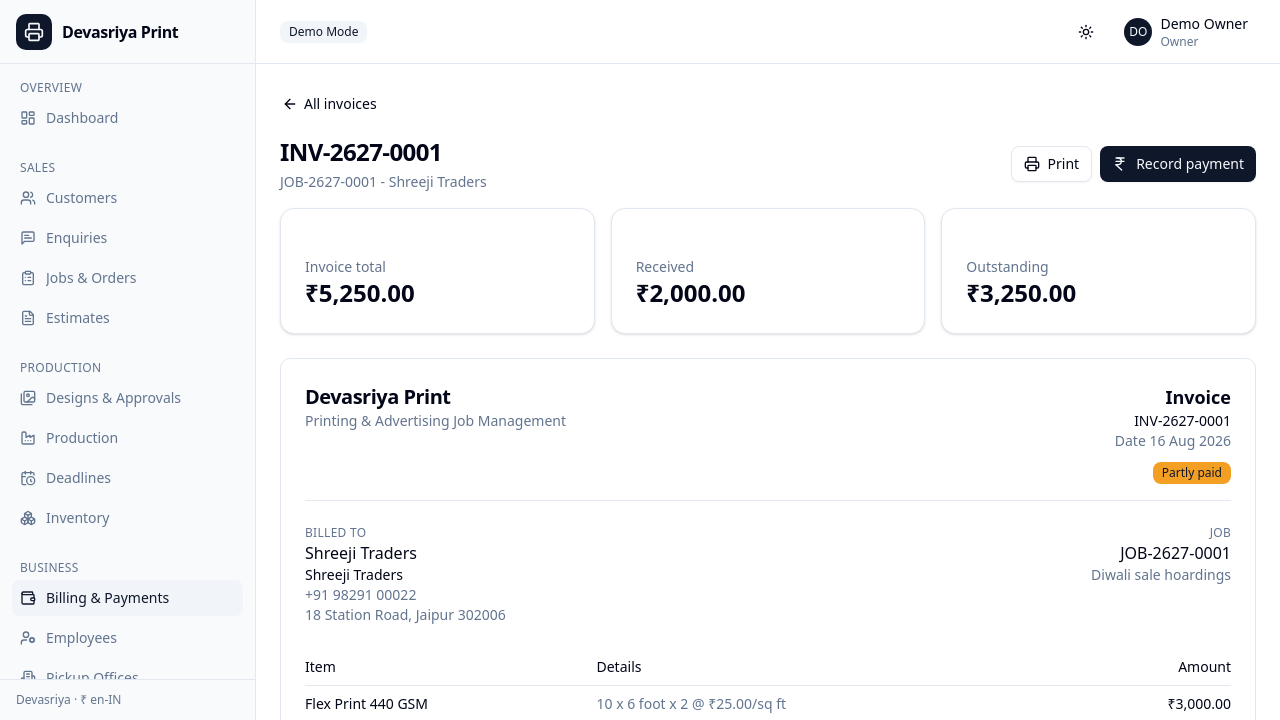
Scenario: demo billing › refuses more than the outstanding balance, and changes nothing
Expected: the heading "INV-2627-0001" is shown, [280, 135, 442, 168]
Click the button "Record payment": (1178, 164) [1100, 146, 1256, 182]
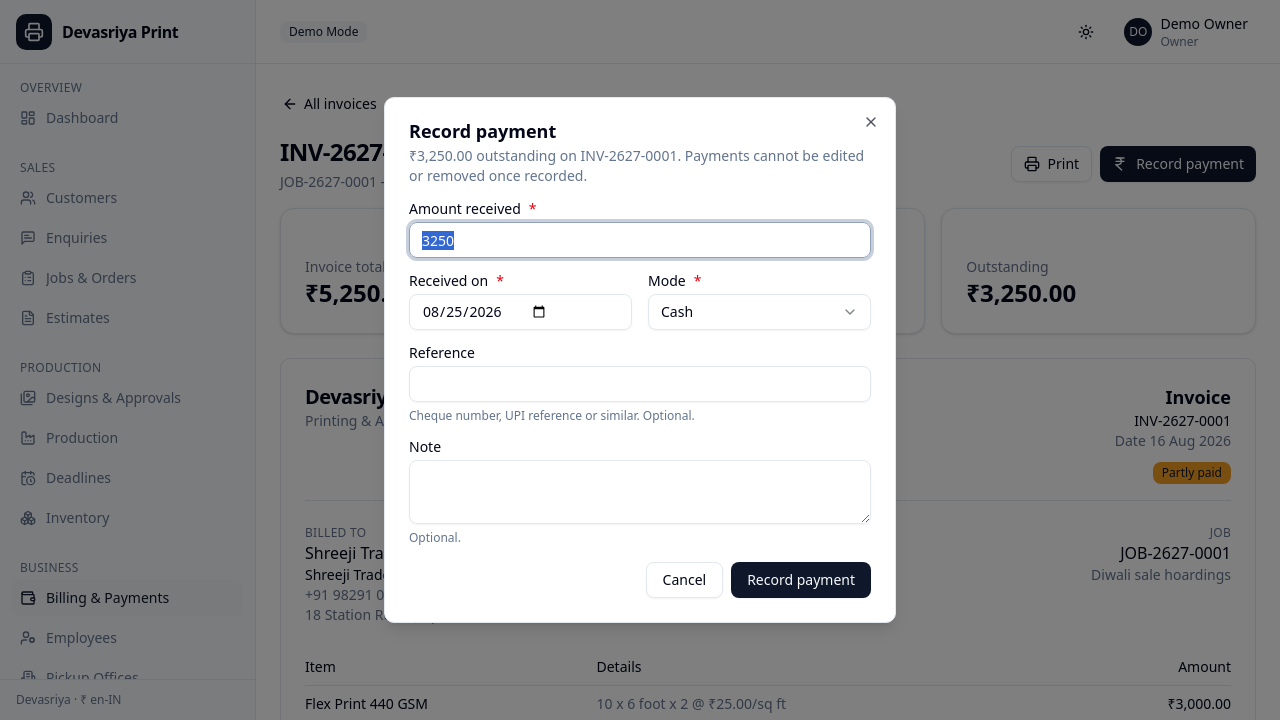
Replace the text in the field labelled "Amount received *" with "9999": (640, 240) [409, 222, 871, 258]
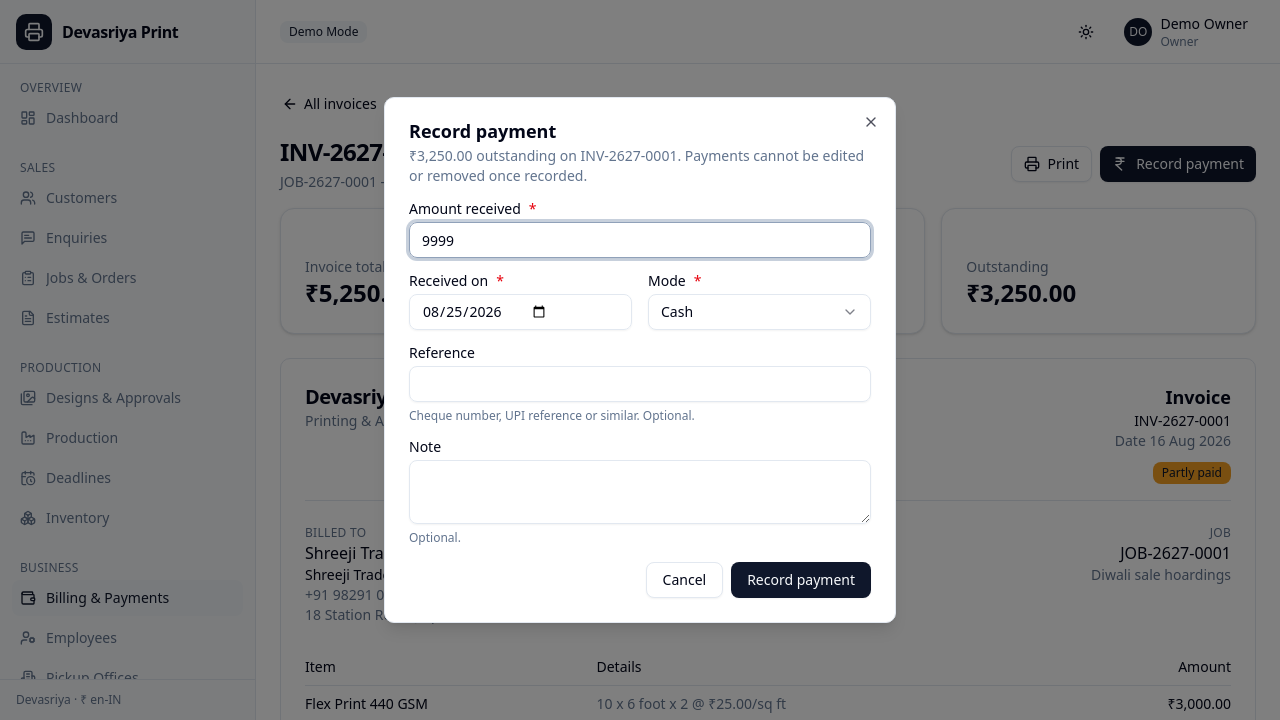
Click the button "Record payment": (801, 580) [731, 562, 871, 598]
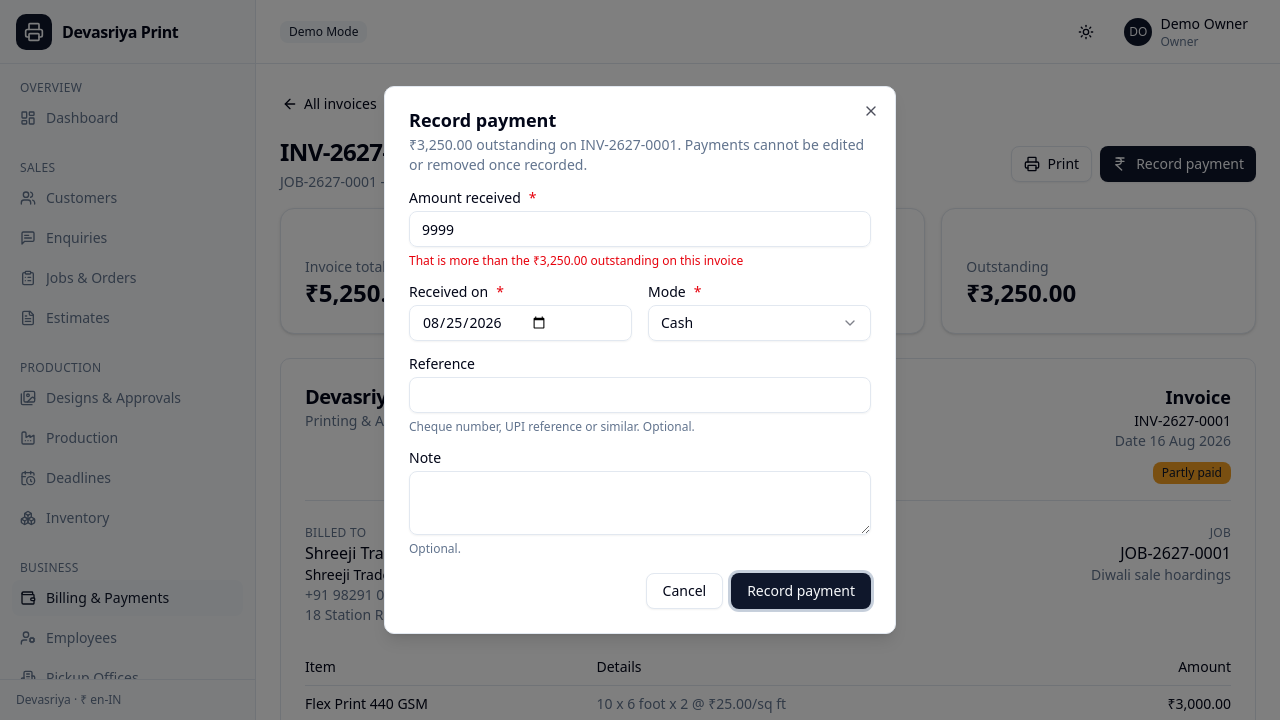
Now the text "That is more than the ₹3,250.00 outstanding on this invoice" is shown, box [409, 252, 743, 269]
